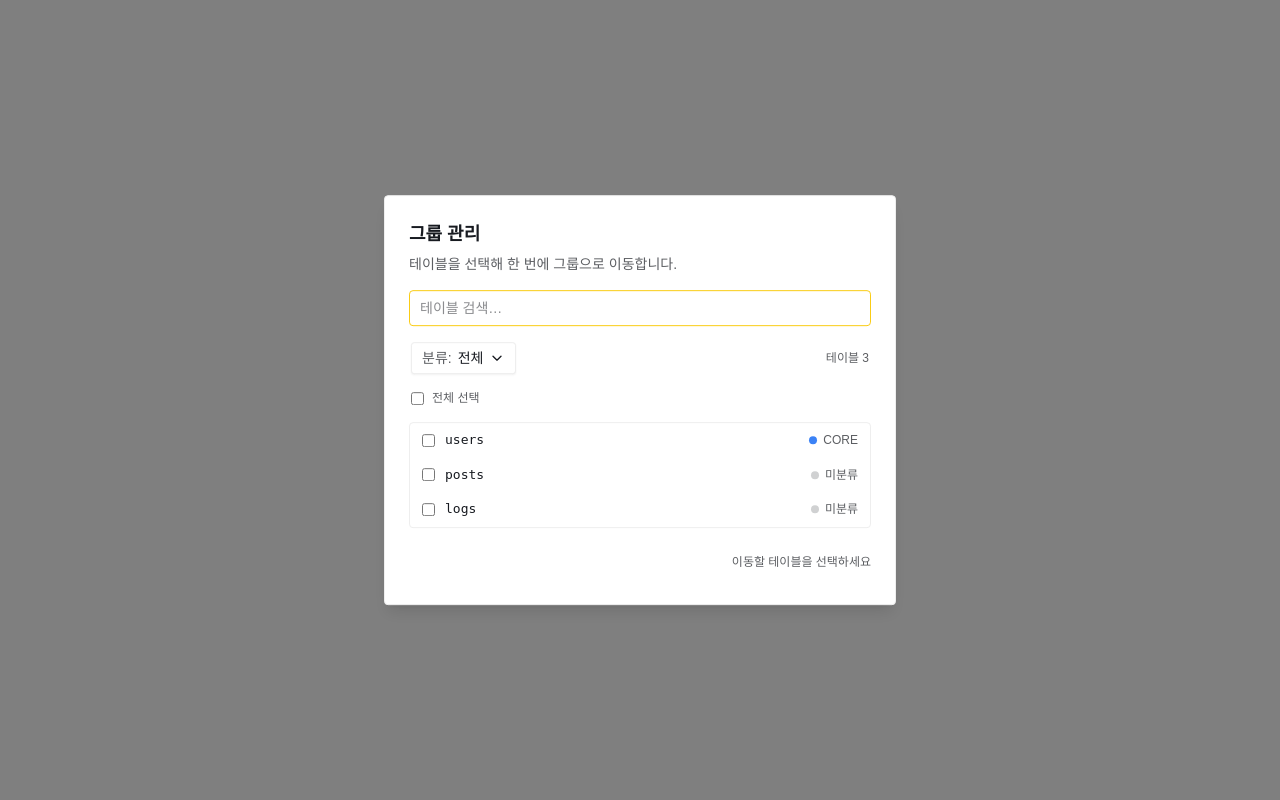
Scenario: ManageGroupsDialog › group filter: 미분류 shows only ungrouped tables
Step 1. Click the button with test id "mg-groupfilter-trigger" → (464, 358), box [411, 342, 516, 374]
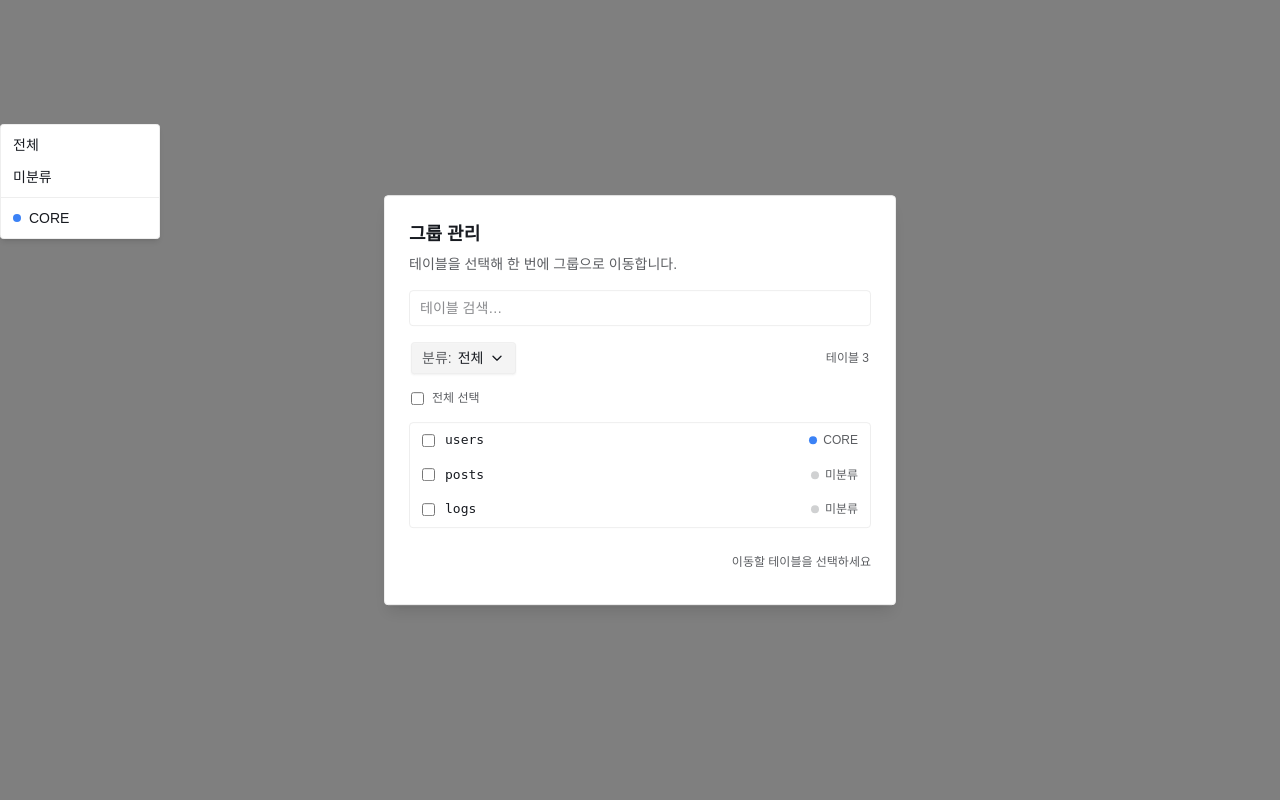
Step 2. Click the menu item with test id "mg-groupfilter-ungrouped" → (32, 177), box [13, 169, 52, 185]
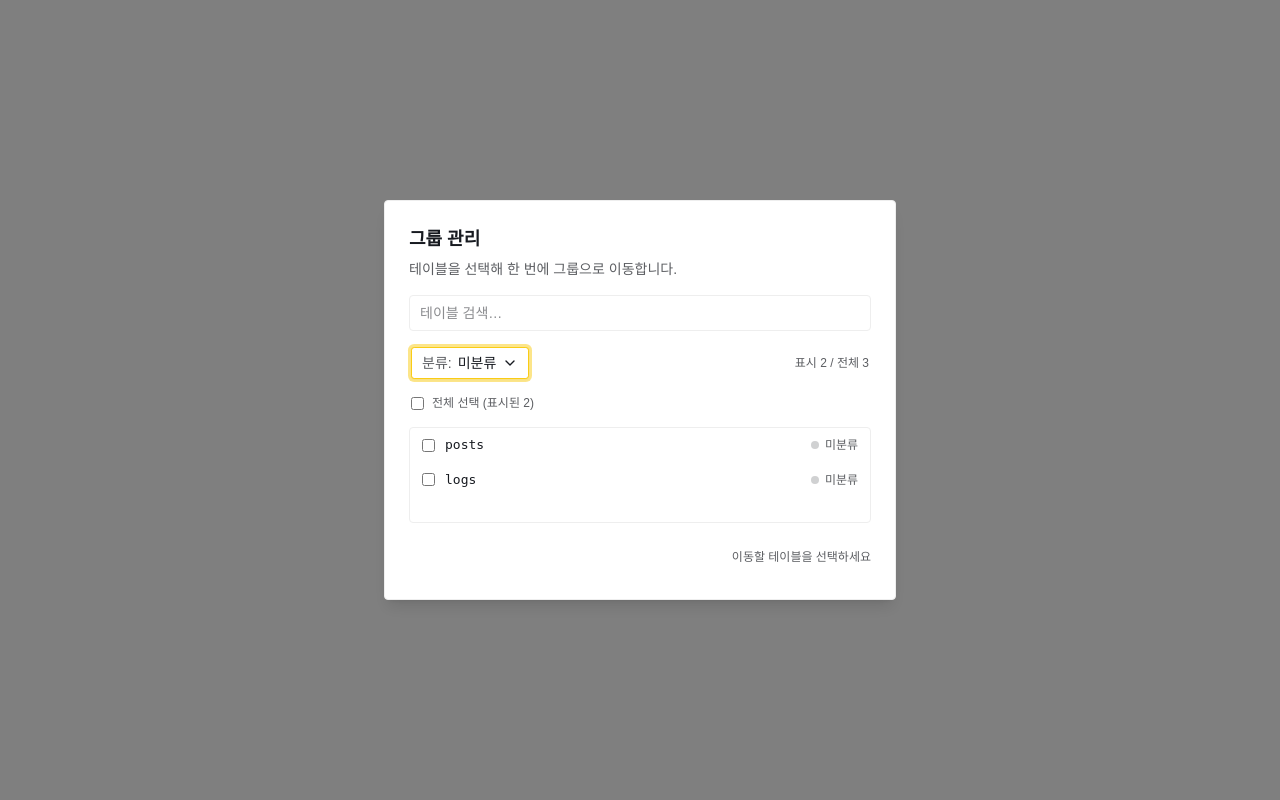
Check: the text "posts 미분류" is shown, box [422, 437, 858, 452]
Check: the label with test id "mg-row-users" is gone
